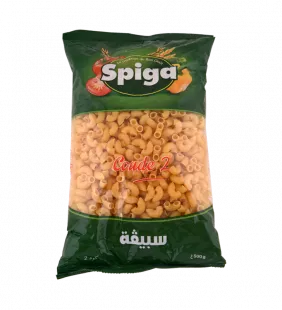SPIGA: (46, 21, 236, 284)
